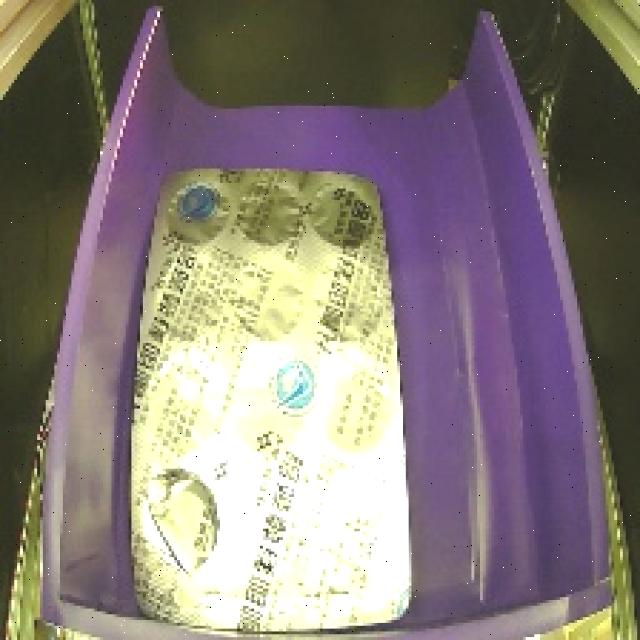med_plate: (126, 156, 422, 640)
